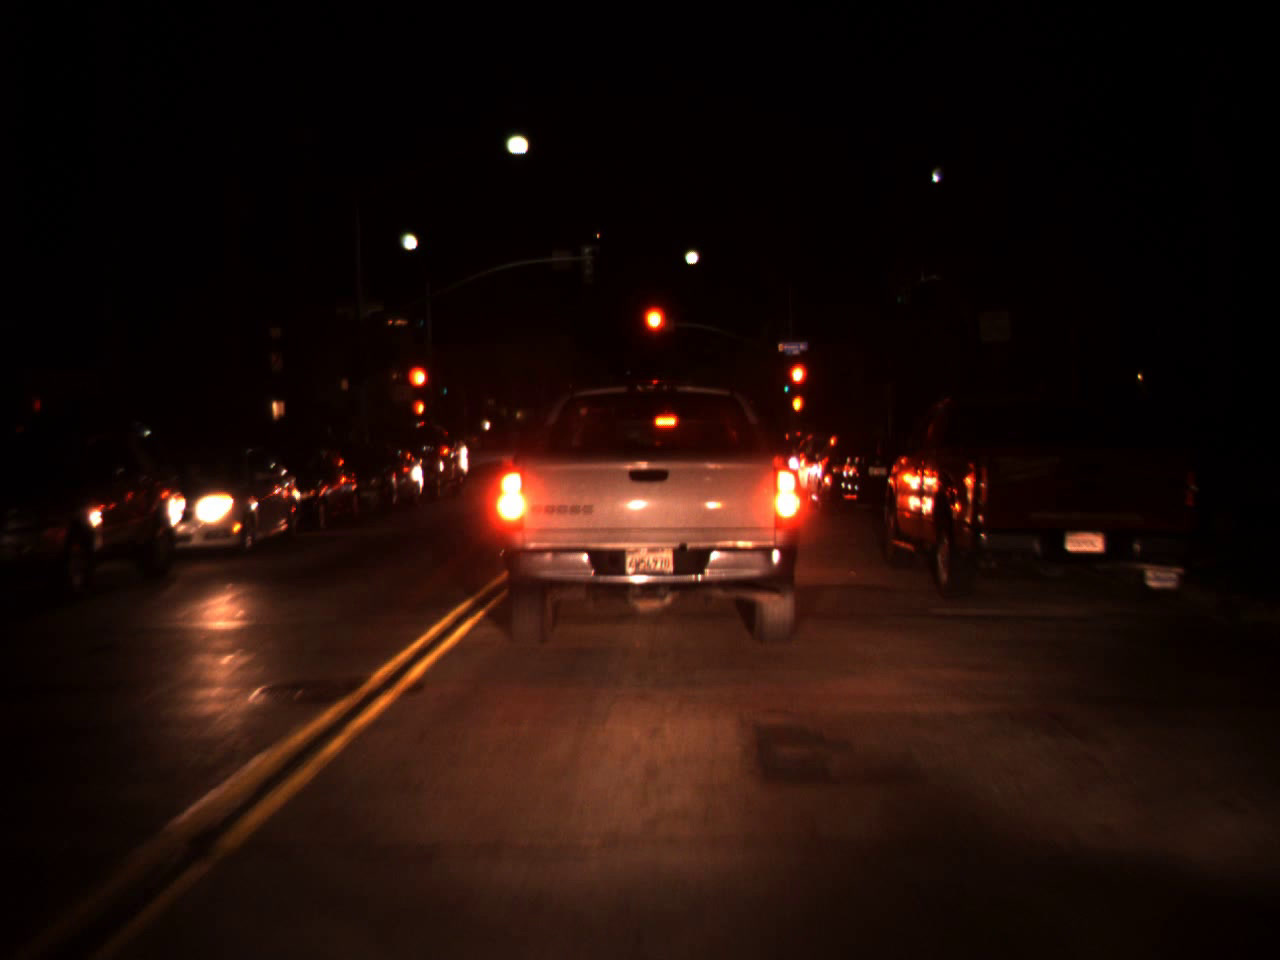stop: (640, 302, 668, 361), (786, 359, 810, 413), (406, 363, 430, 411)
